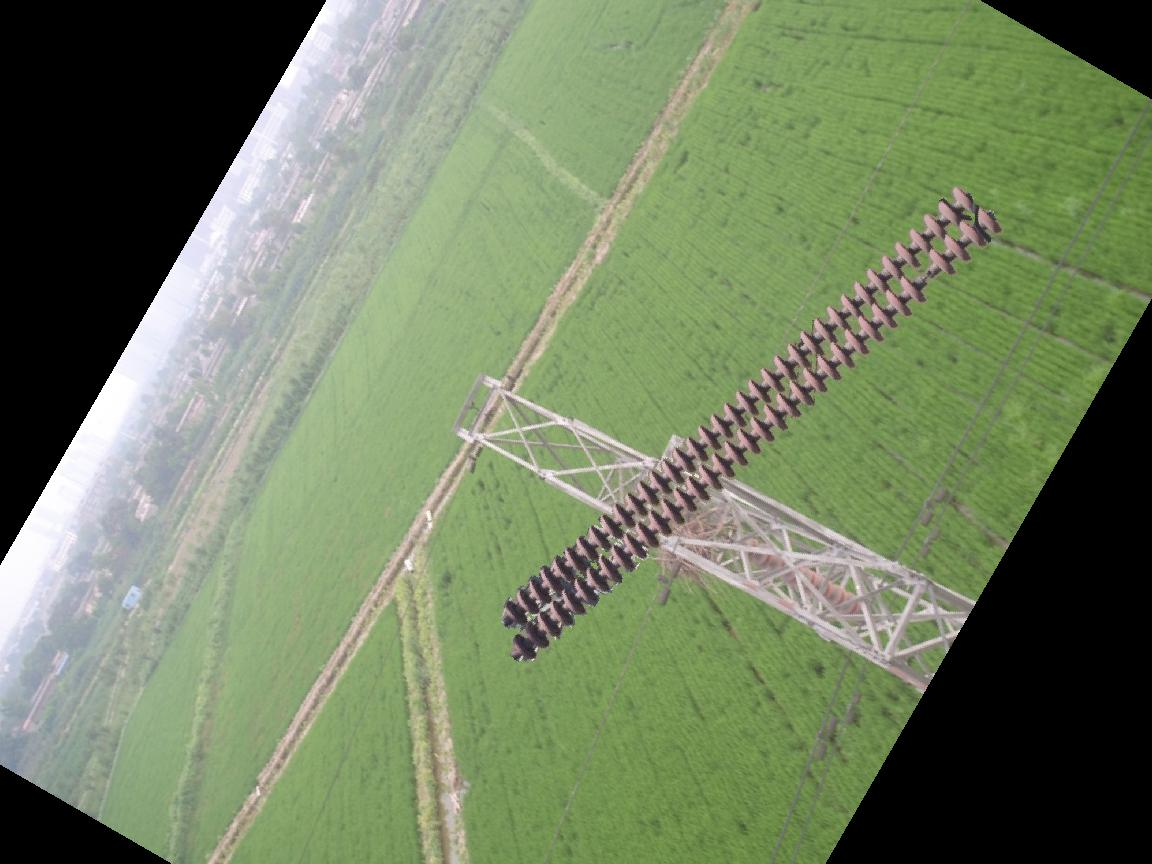insulator: (496, 181, 1003, 666), (756, 550, 862, 617)
insulator_stringdrop: (898, 246, 957, 305)
